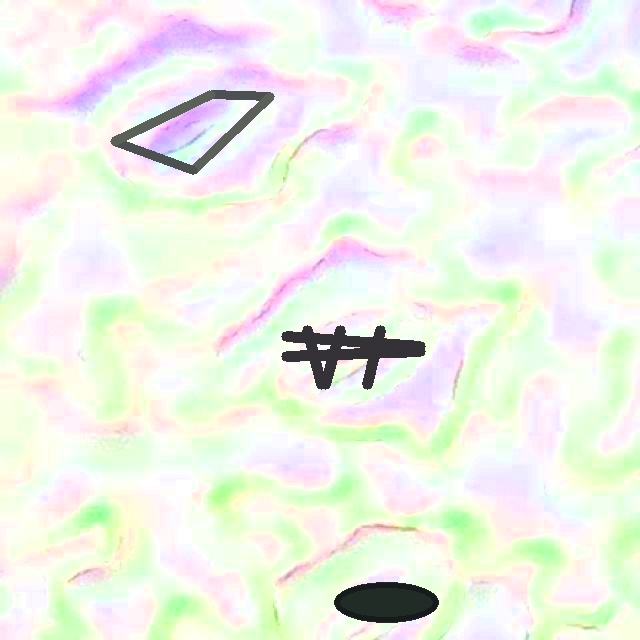open: (111, 90, 274, 173), (281, 325, 425, 389), (334, 581, 438, 622)
